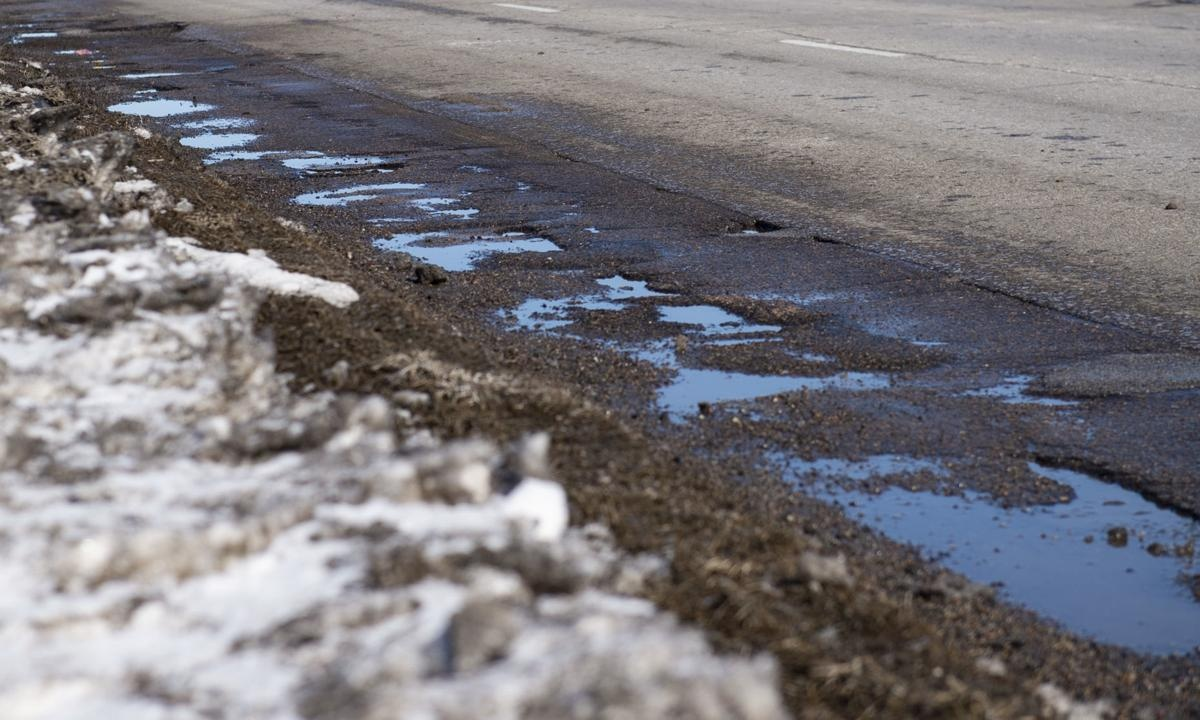pothole: (114, 43, 1200, 590)
